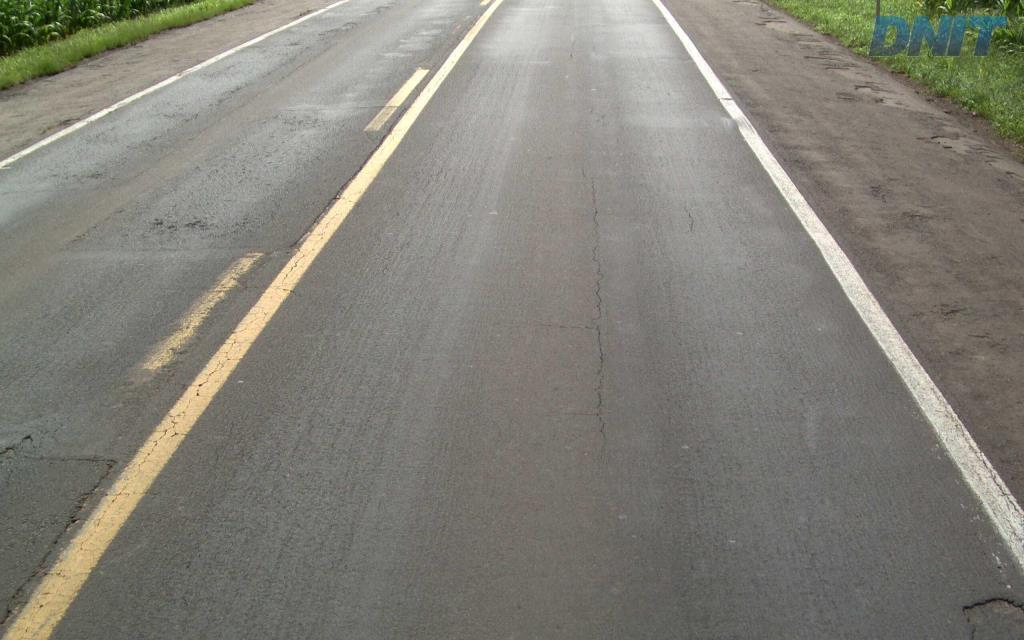pothole: (953, 592, 1022, 638)
